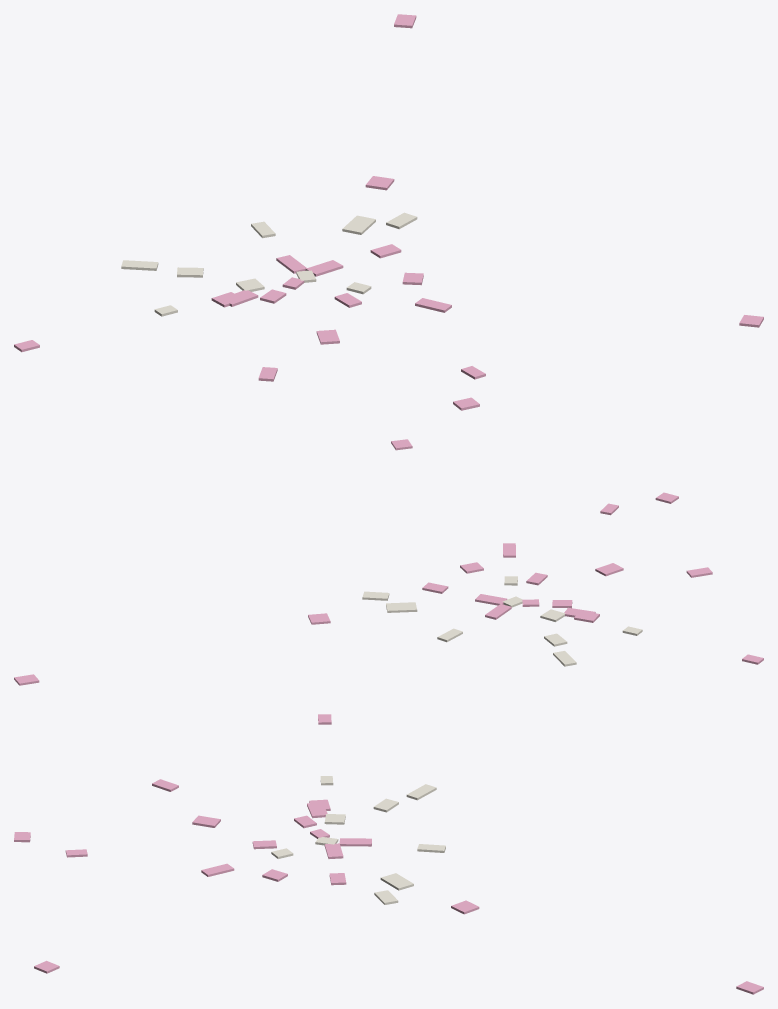
Rendered from cover_petals_pink.glb.
The picture shows the model from 3 angles, top to bottom: view 1: azimuth 30°, elevation 25°; view 2: azimuth 150°, elevation 25°; view 3: azimuth 270°, elevation 25°; orthographic projection. The views are drawn at different scales.
Visible parts, largest first — view 1: biome_flowering_petals; view 2: biome_flowering_petals; view 3: biome_flowering_petals.
Part boxes in pixels (left/top/right/bottom): biome_flowering_petals: left=14, top=14, right=763, bottom=410; biome_flowering_petals: left=14, top=439, right=763, bottom=685; biome_flowering_petals: left=14, top=714, right=763, bottom=994.
Size of the model in its own units: 3.28 by 0.012 by 3.74.
